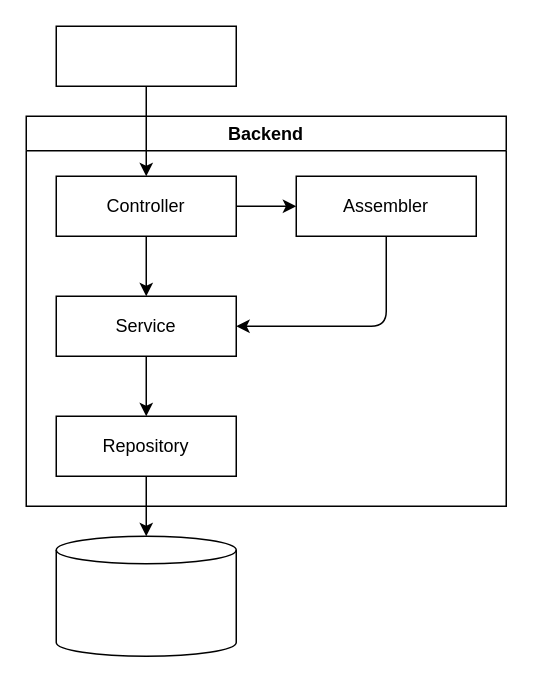
The diagram is 533 pixels wide and 683 high, and some of its shapes have lost their labels. The centre of each missing label's shape, as x and y in pixels:
"Database" belongs at point (145, 595).
"Frontend" belongs at point (145, 55).
